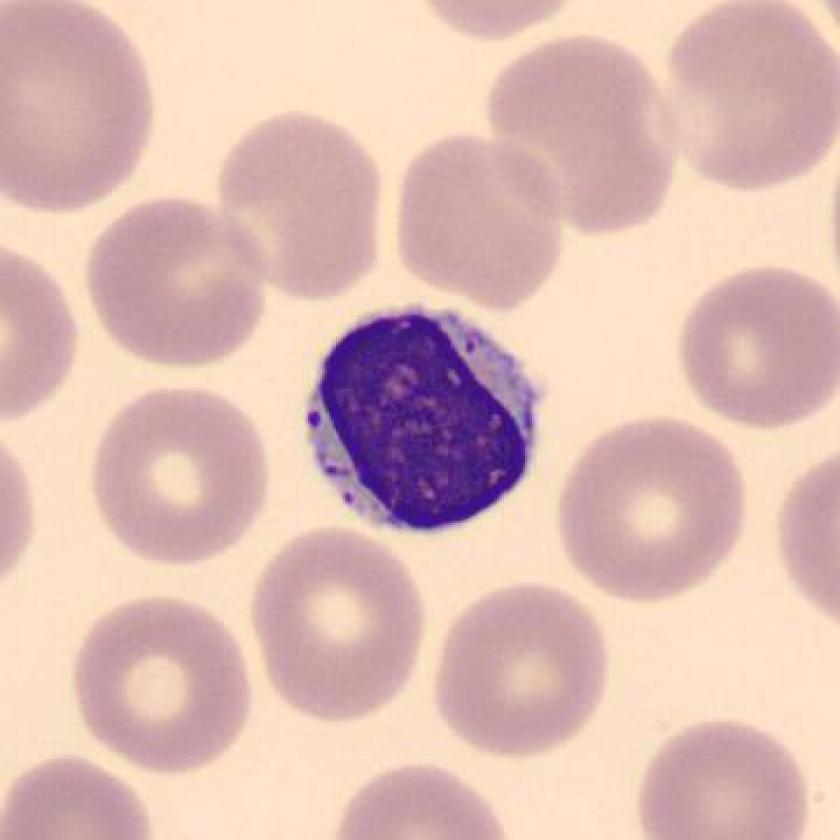lymphocyte: (290, 300, 561, 557)
